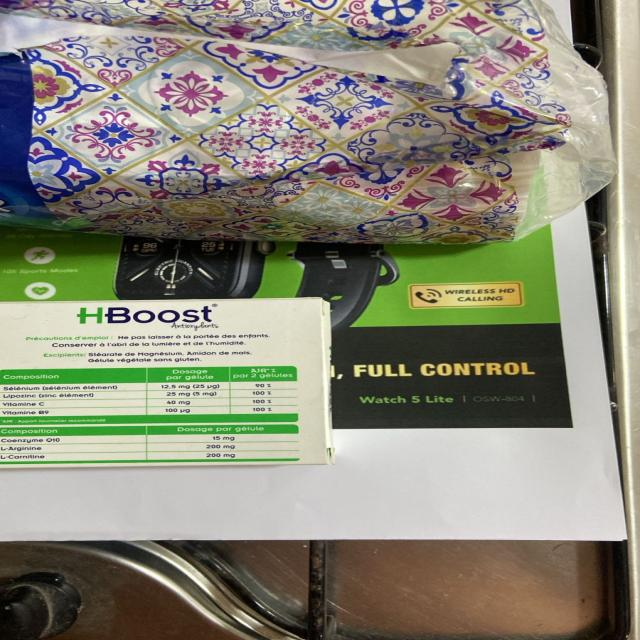Watch 5 Lite OSW-804: (352, 392, 539, 408)
